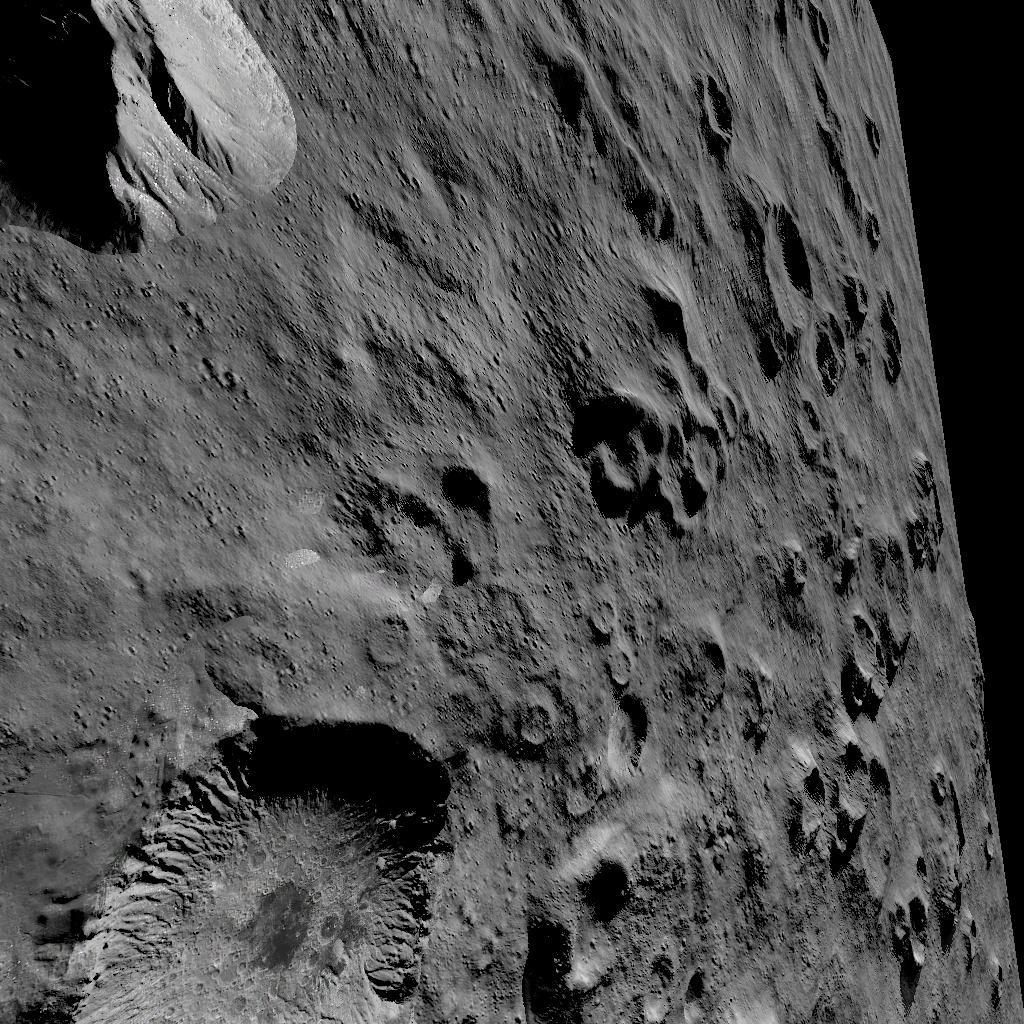Boulders: (1, 0, 298, 257)
Crater: (0, 702, 467, 1024), (563, 385, 744, 542), (873, 862, 1007, 1012), (515, 844, 634, 1012), (350, 464, 500, 596), (727, 204, 815, 374), (771, 738, 900, 850), (581, 602, 650, 790), (820, 282, 909, 394), (821, 614, 917, 714), (891, 448, 948, 570), (643, 948, 720, 1024), (687, 74, 748, 158), (681, 636, 733, 726), (355, 612, 419, 676), (505, 696, 557, 760), (791, 0, 837, 67), (785, 400, 831, 462), (845, 116, 895, 162), (849, 206, 887, 250), (923, 768, 949, 810)
Plan surface: (1, 268, 338, 689), (355, 0, 544, 446)
